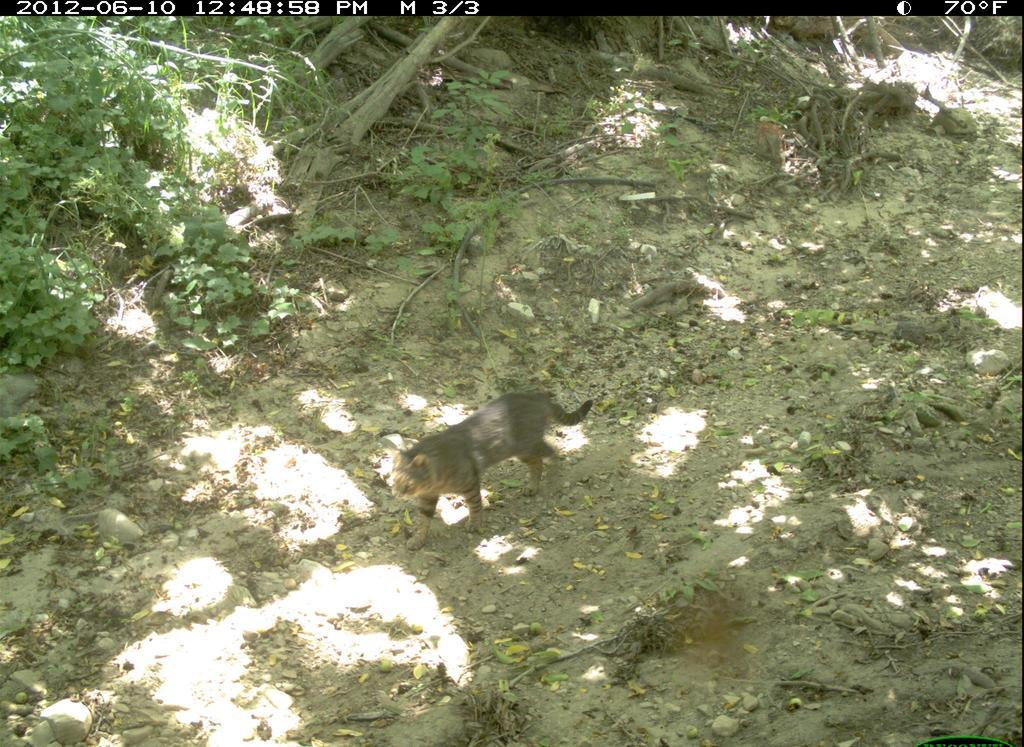cat: (381, 388, 599, 557)
